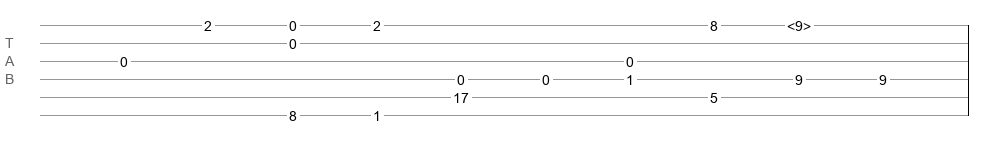0: (120, 54, 128, 64), (289, 18, 297, 28), (289, 36, 297, 46), (457, 72, 465, 82), (542, 72, 550, 82), (626, 54, 634, 64)
1: (373, 108, 381, 118), (626, 72, 634, 82)
17: (453, 90, 469, 100)
2: (204, 18, 212, 28), (373, 18, 381, 28)
5: (710, 90, 718, 100)
8: (289, 108, 297, 118), (710, 18, 718, 28)
9: (795, 72, 803, 82), (879, 72, 887, 82)
harmonic: (787, 18, 811, 28)
